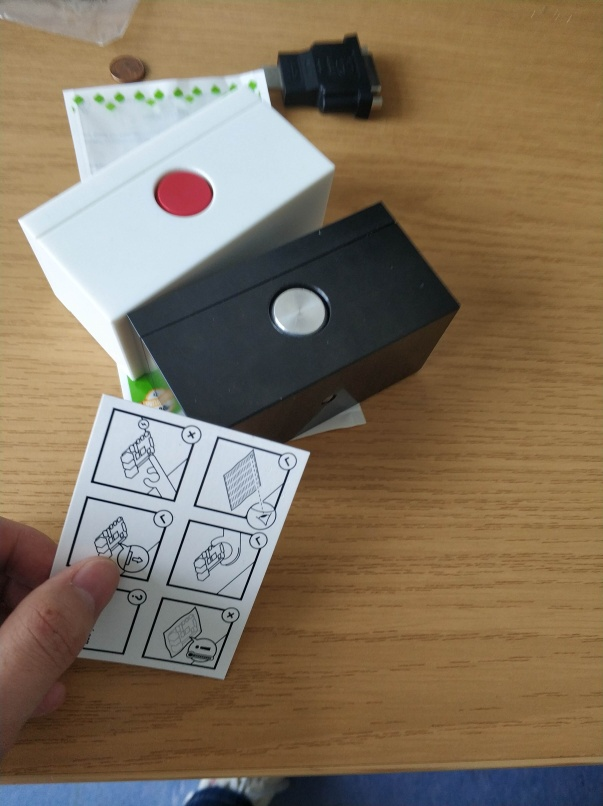black+black+silver: (116, 196, 465, 445)
white+white+red: (13, 83, 339, 385)
